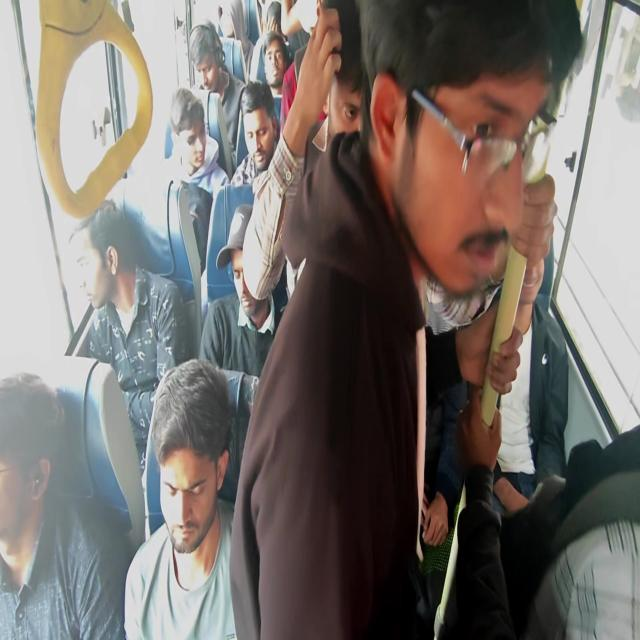person: (372, 0, 507, 305), (225, 238, 305, 408), (562, 481, 640, 640), (85, 235, 160, 398), (0, 375, 59, 534), (165, 396, 229, 540), (516, 246, 562, 423), (166, 100, 222, 190), (267, 37, 306, 141), (238, 89, 278, 184), (195, 36, 238, 110), (257, 5, 310, 65), (216, 0, 248, 50)
